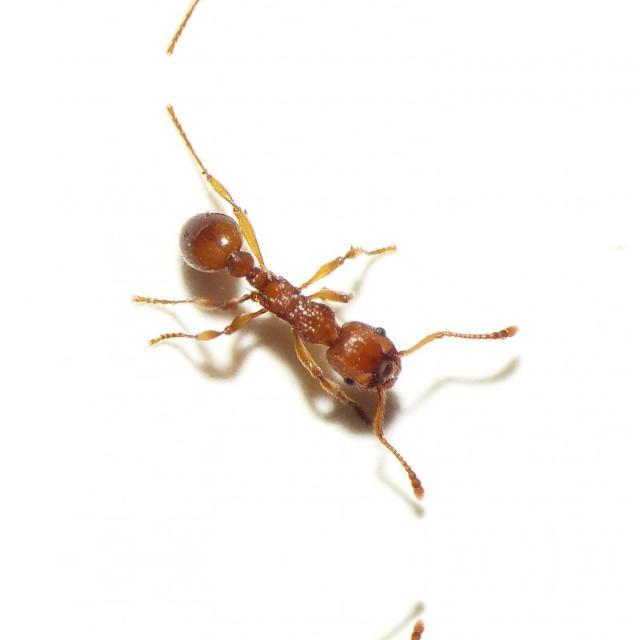Myrmica: (138, 178, 510, 458)
